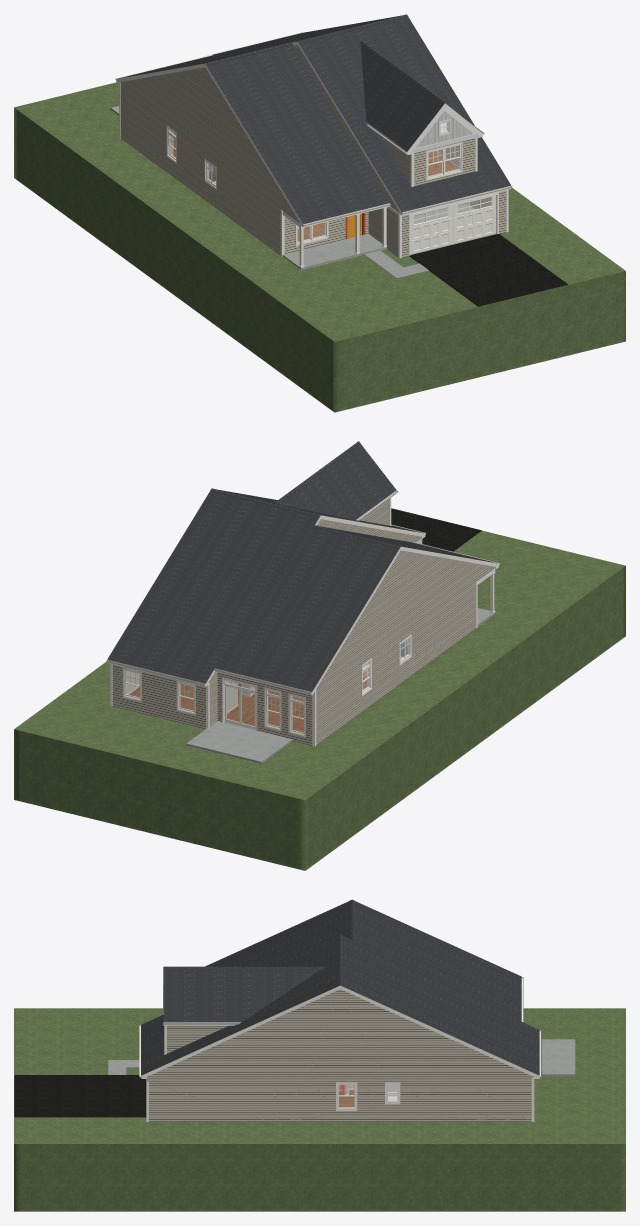
Rendered from house.dae.
3 renders of one model, top to bottom at view 1: azimuth 30°, elevation 25°; view 2: azimuth 150°, elevation 25°; view 3: azimuth 270°, elevation 25°, orthographic. The views are drawn at different scales.
Parts seen in each view (by area): view 1: geo_184, geo_69, geo_163, geo_11, geo_196, geo_167, geo_127, geo_155, geo_175; view 2: geo_184, geo_69, geo_163, geo_11, geo_167, geo_127, geo_196, geo_175; view 3: geo_184, geo_163, geo_69, geo_196, geo_11, geo_167, geo_127.
Boxes of the visible parts, x1,y1,x2,y2 form: geo_184: [14, 82, 625, 412]; geo_69: [118, 14, 511, 223]; geo_163: [120, 45, 505, 257]; geo_11: [115, 32, 512, 267]; geo_196: [409, 234, 567, 306]; geo_167: [110, 106, 428, 278]; geo_127: [169, 122, 491, 241]; geo_155: [416, 111, 473, 147]; geo_175: [173, 133, 458, 241]; geo_184: [14, 530, 625, 870]; geo_69: [107, 441, 498, 691]; geo_163: [112, 499, 495, 745]; geo_11: [106, 490, 499, 746]; geo_167: [186, 608, 495, 763]; geo_127: [126, 638, 409, 732]; geo_196: [391, 508, 481, 551]; geo_175: [129, 672, 366, 732]; geo_184: [14, 1008, 625, 1211]; geo_163: [147, 989, 533, 1121]; geo_69: [141, 899, 539, 1075]; geo_196: [14, 1075, 146, 1117]; geo_11: [139, 977, 541, 1121]; geo_167: [108, 1039, 575, 1076]; geo_127: [339, 1085, 396, 1106].
Bounding box in the file's own units: 648 × 1235 × 454.
47 materials, 21 textured.
